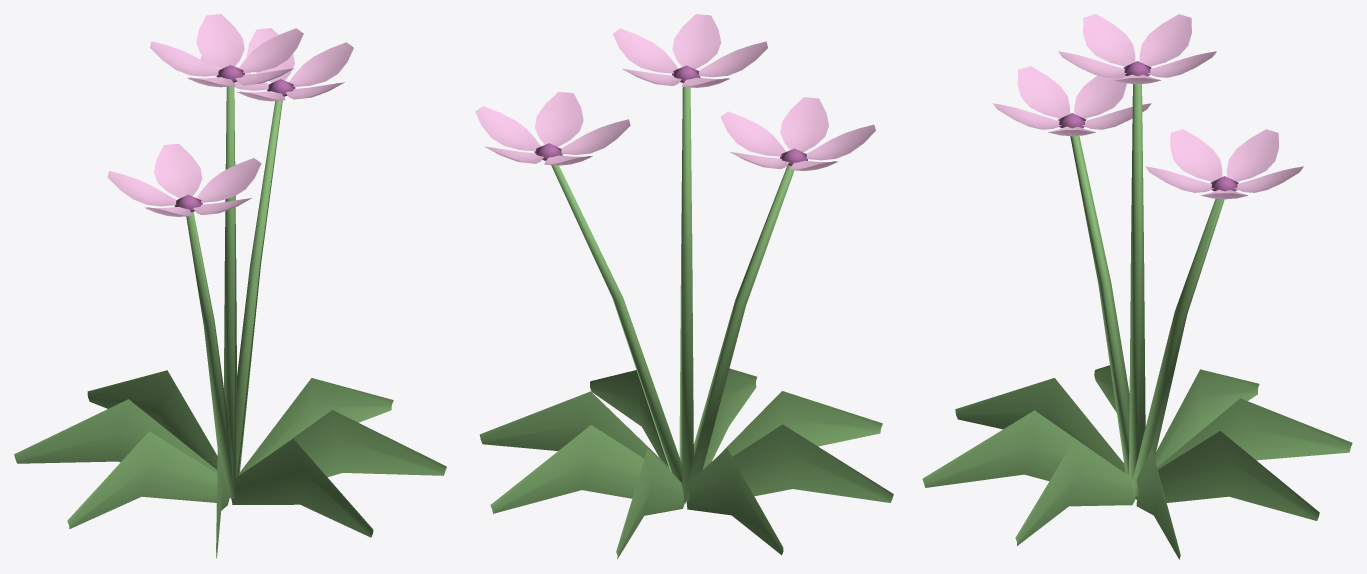
Rendered from flower_wild_geranium.glb.
3 renders of one model, left to right at view 1: azimuth 30°, elevation 25°; view 2: azimuth 150°, elevation 25°; view 3: azimuth 270°, elevation 25°, orthographic.
Parts seen in each view (by area): view 1: Flora_Wild_Geranium; view 2: Flora_Wild_Geranium; view 3: Flora_Wild_Geranium.
Boxes of the visible parts, x1,y1,x2,y2 form: Flora_Wild_Geranium: (14,14,446,558); Flora_Wild_Geranium: (475,14,893,559); Flora_Wild_Geranium: (922,14,1352,559).
Bounding box in the file's own units: 0.3952 × 0.466 × 0.3952.
